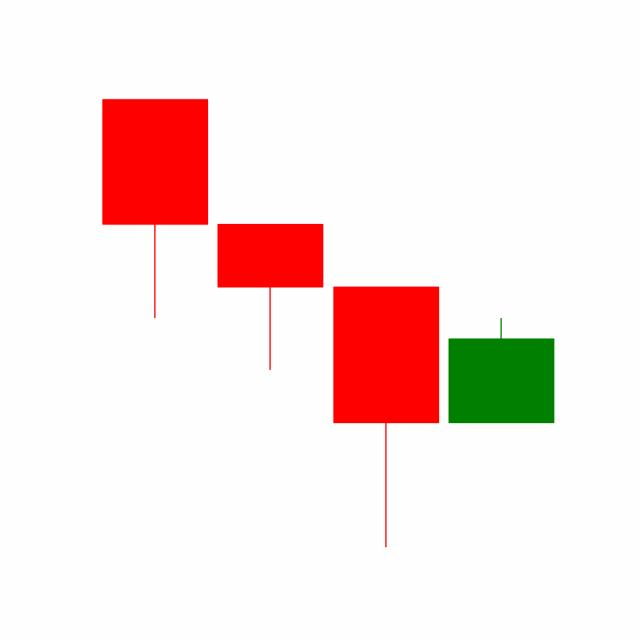Marubozu: (443, 316, 559, 424)
